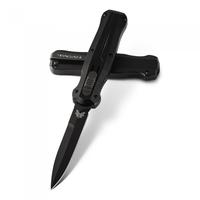knife: (46, 6, 123, 193)
